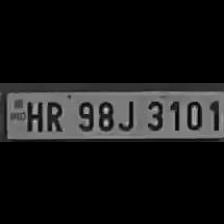0: (183, 97, 203, 129)
1: (166, 96, 182, 130), (206, 96, 222, 130)
3: (142, 96, 166, 130)
8: (96, 97, 114, 131)
9: (72, 97, 94, 131)
H: (24, 97, 42, 131)
J: (116, 96, 138, 130)
R: (42, 96, 66, 132)
